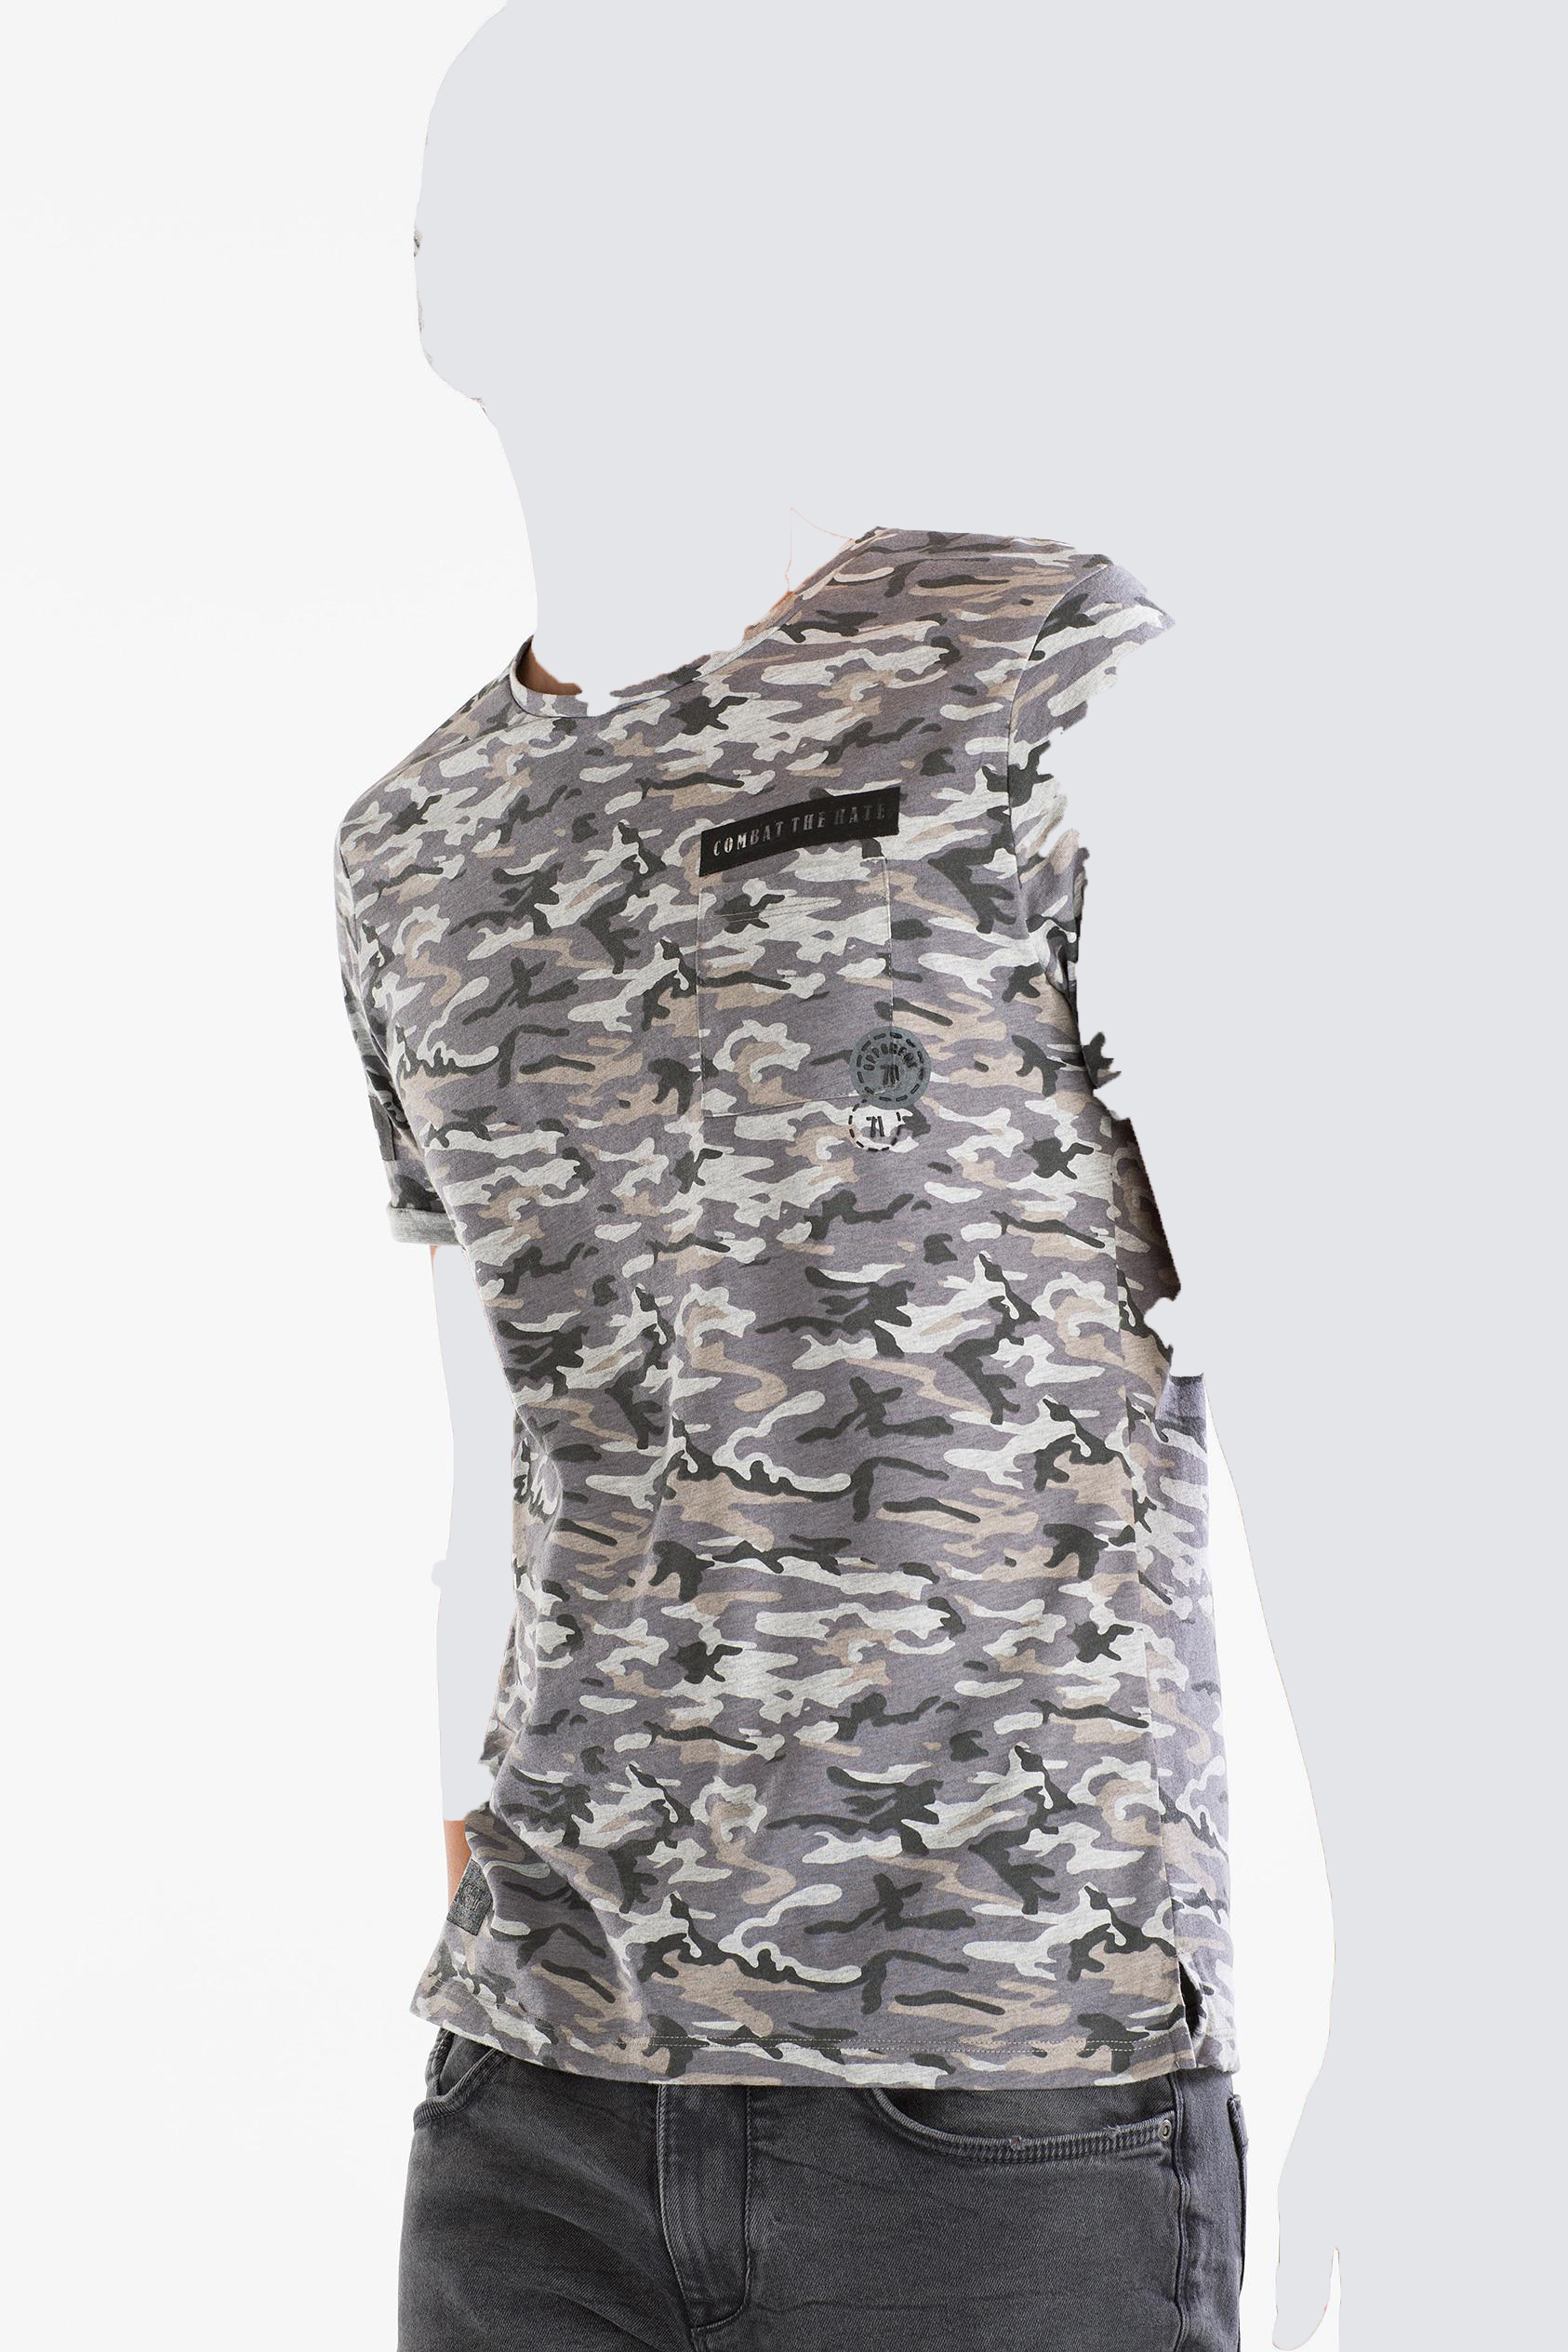teeshirt: (238, 528, 1365, 2077)
